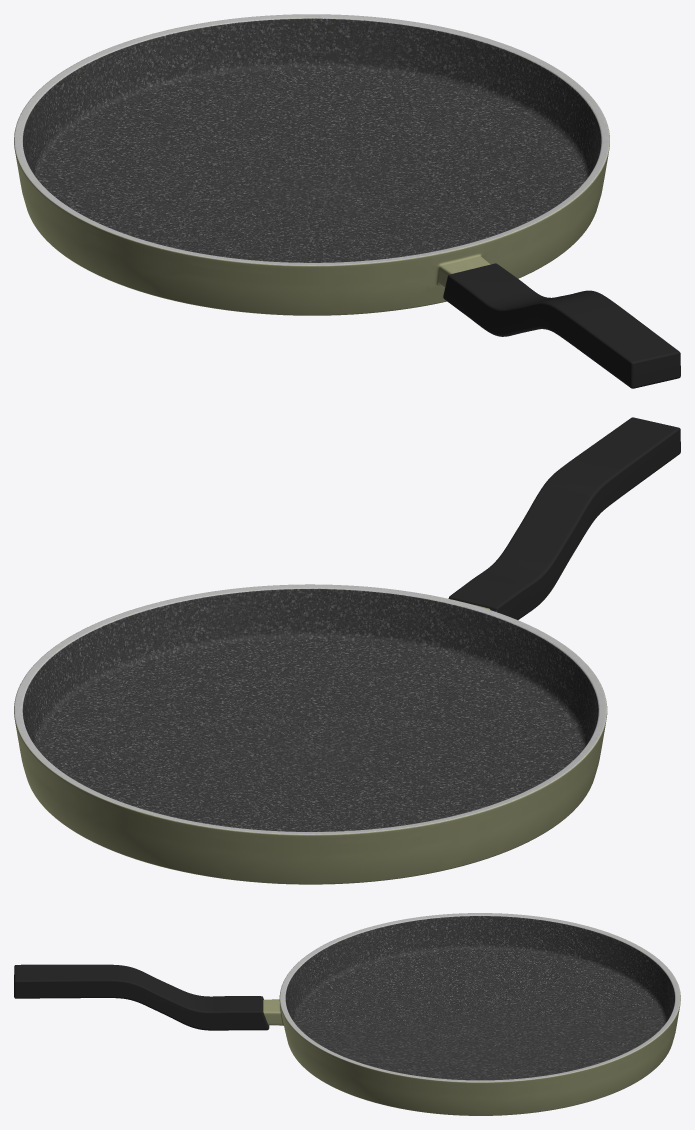
The model's file is pan.glb.
3 renders of one model, top to bottom at view 1: azimuth 30°, elevation 25°; view 2: azimuth 150°, elevation 25°; view 3: azimuth 270°, elevation 25°, orthographic. The views are drawn at different scales.
Visible parts, largest first — view 1: sm_kitchenware_pan_a01_mesh_00.001; view 2: sm_kitchenware_pan_a01_mesh_00.001; view 3: sm_kitchenware_pan_a01_mesh_00.001.
Boxes of the visible parts, x1,y1,x2,y2 form: sm_kitchenware_pan_a01_mesh_00.001: (14,14,680,388); sm_kitchenware_pan_a01_mesh_00.001: (14,417,680,884); sm_kitchenware_pan_a01_mesh_00.001: (14,913,680,1115).
Bounding box in the file's own units: 0.2593 × 0.0445 × 0.431.
Materials: 1 (1 with a texture image).
